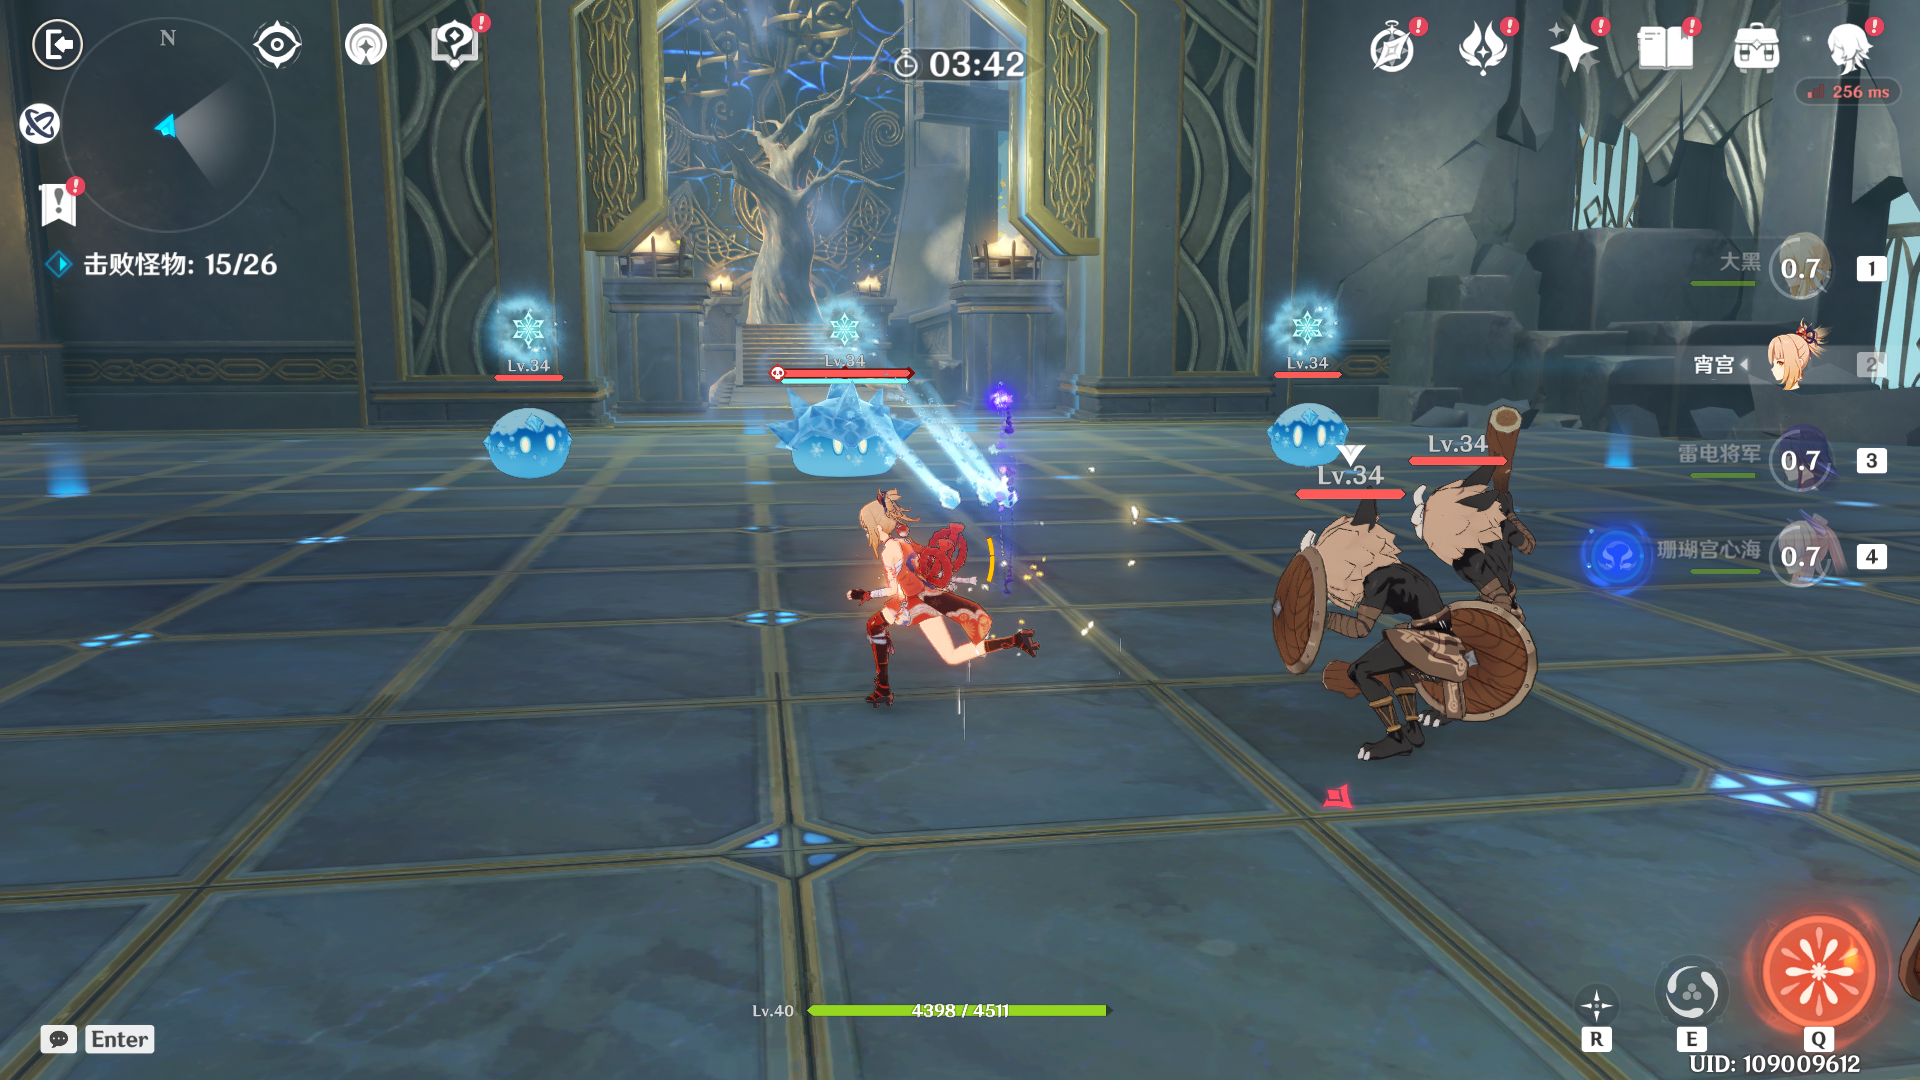character: (820, 483, 1047, 713)
hili: (1244, 495, 1522, 819), (1398, 436, 1565, 687)
slime: (761, 385, 930, 491), (465, 396, 583, 489), (1261, 384, 1361, 471)
